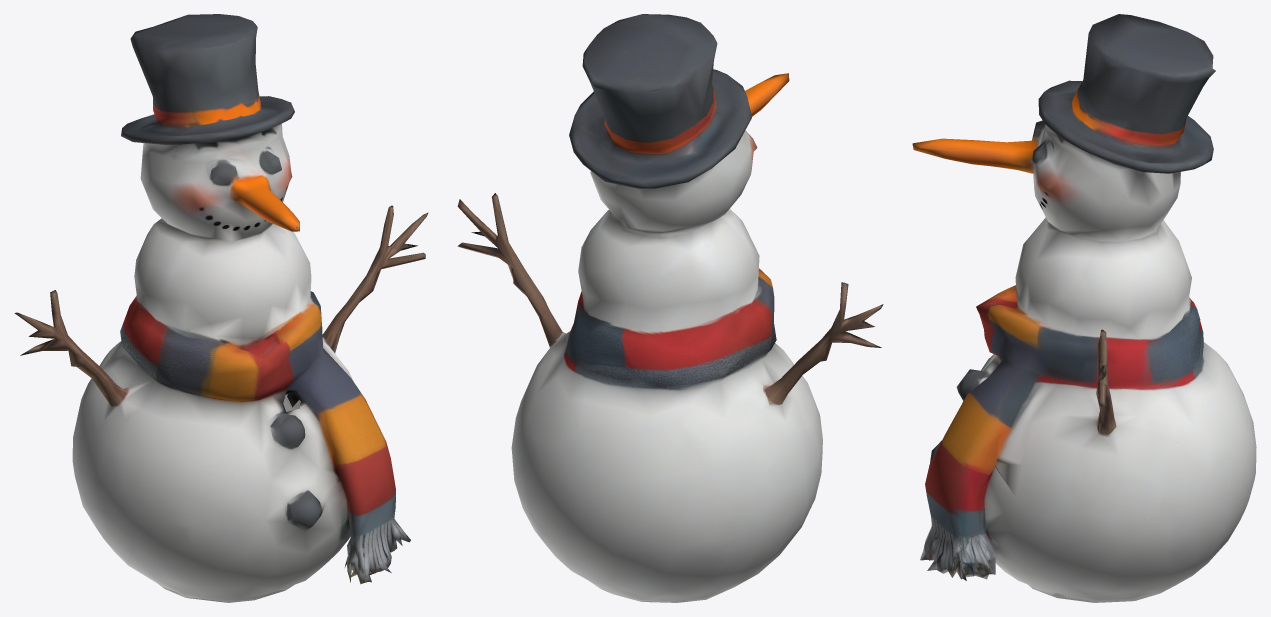
File: snowman_russia.glb
The picture shows the model from 3 angles, left to right: view 1: azimuth 30°, elevation 25°; view 2: azimuth 150°, elevation 25°; view 3: azimuth 270°, elevation 25°; orthographic projection. The views are drawn at different scales.
Size of the model in its own units: 1.62 by 2 by 1.17.
Materials: 1 (1 with a texture image).
